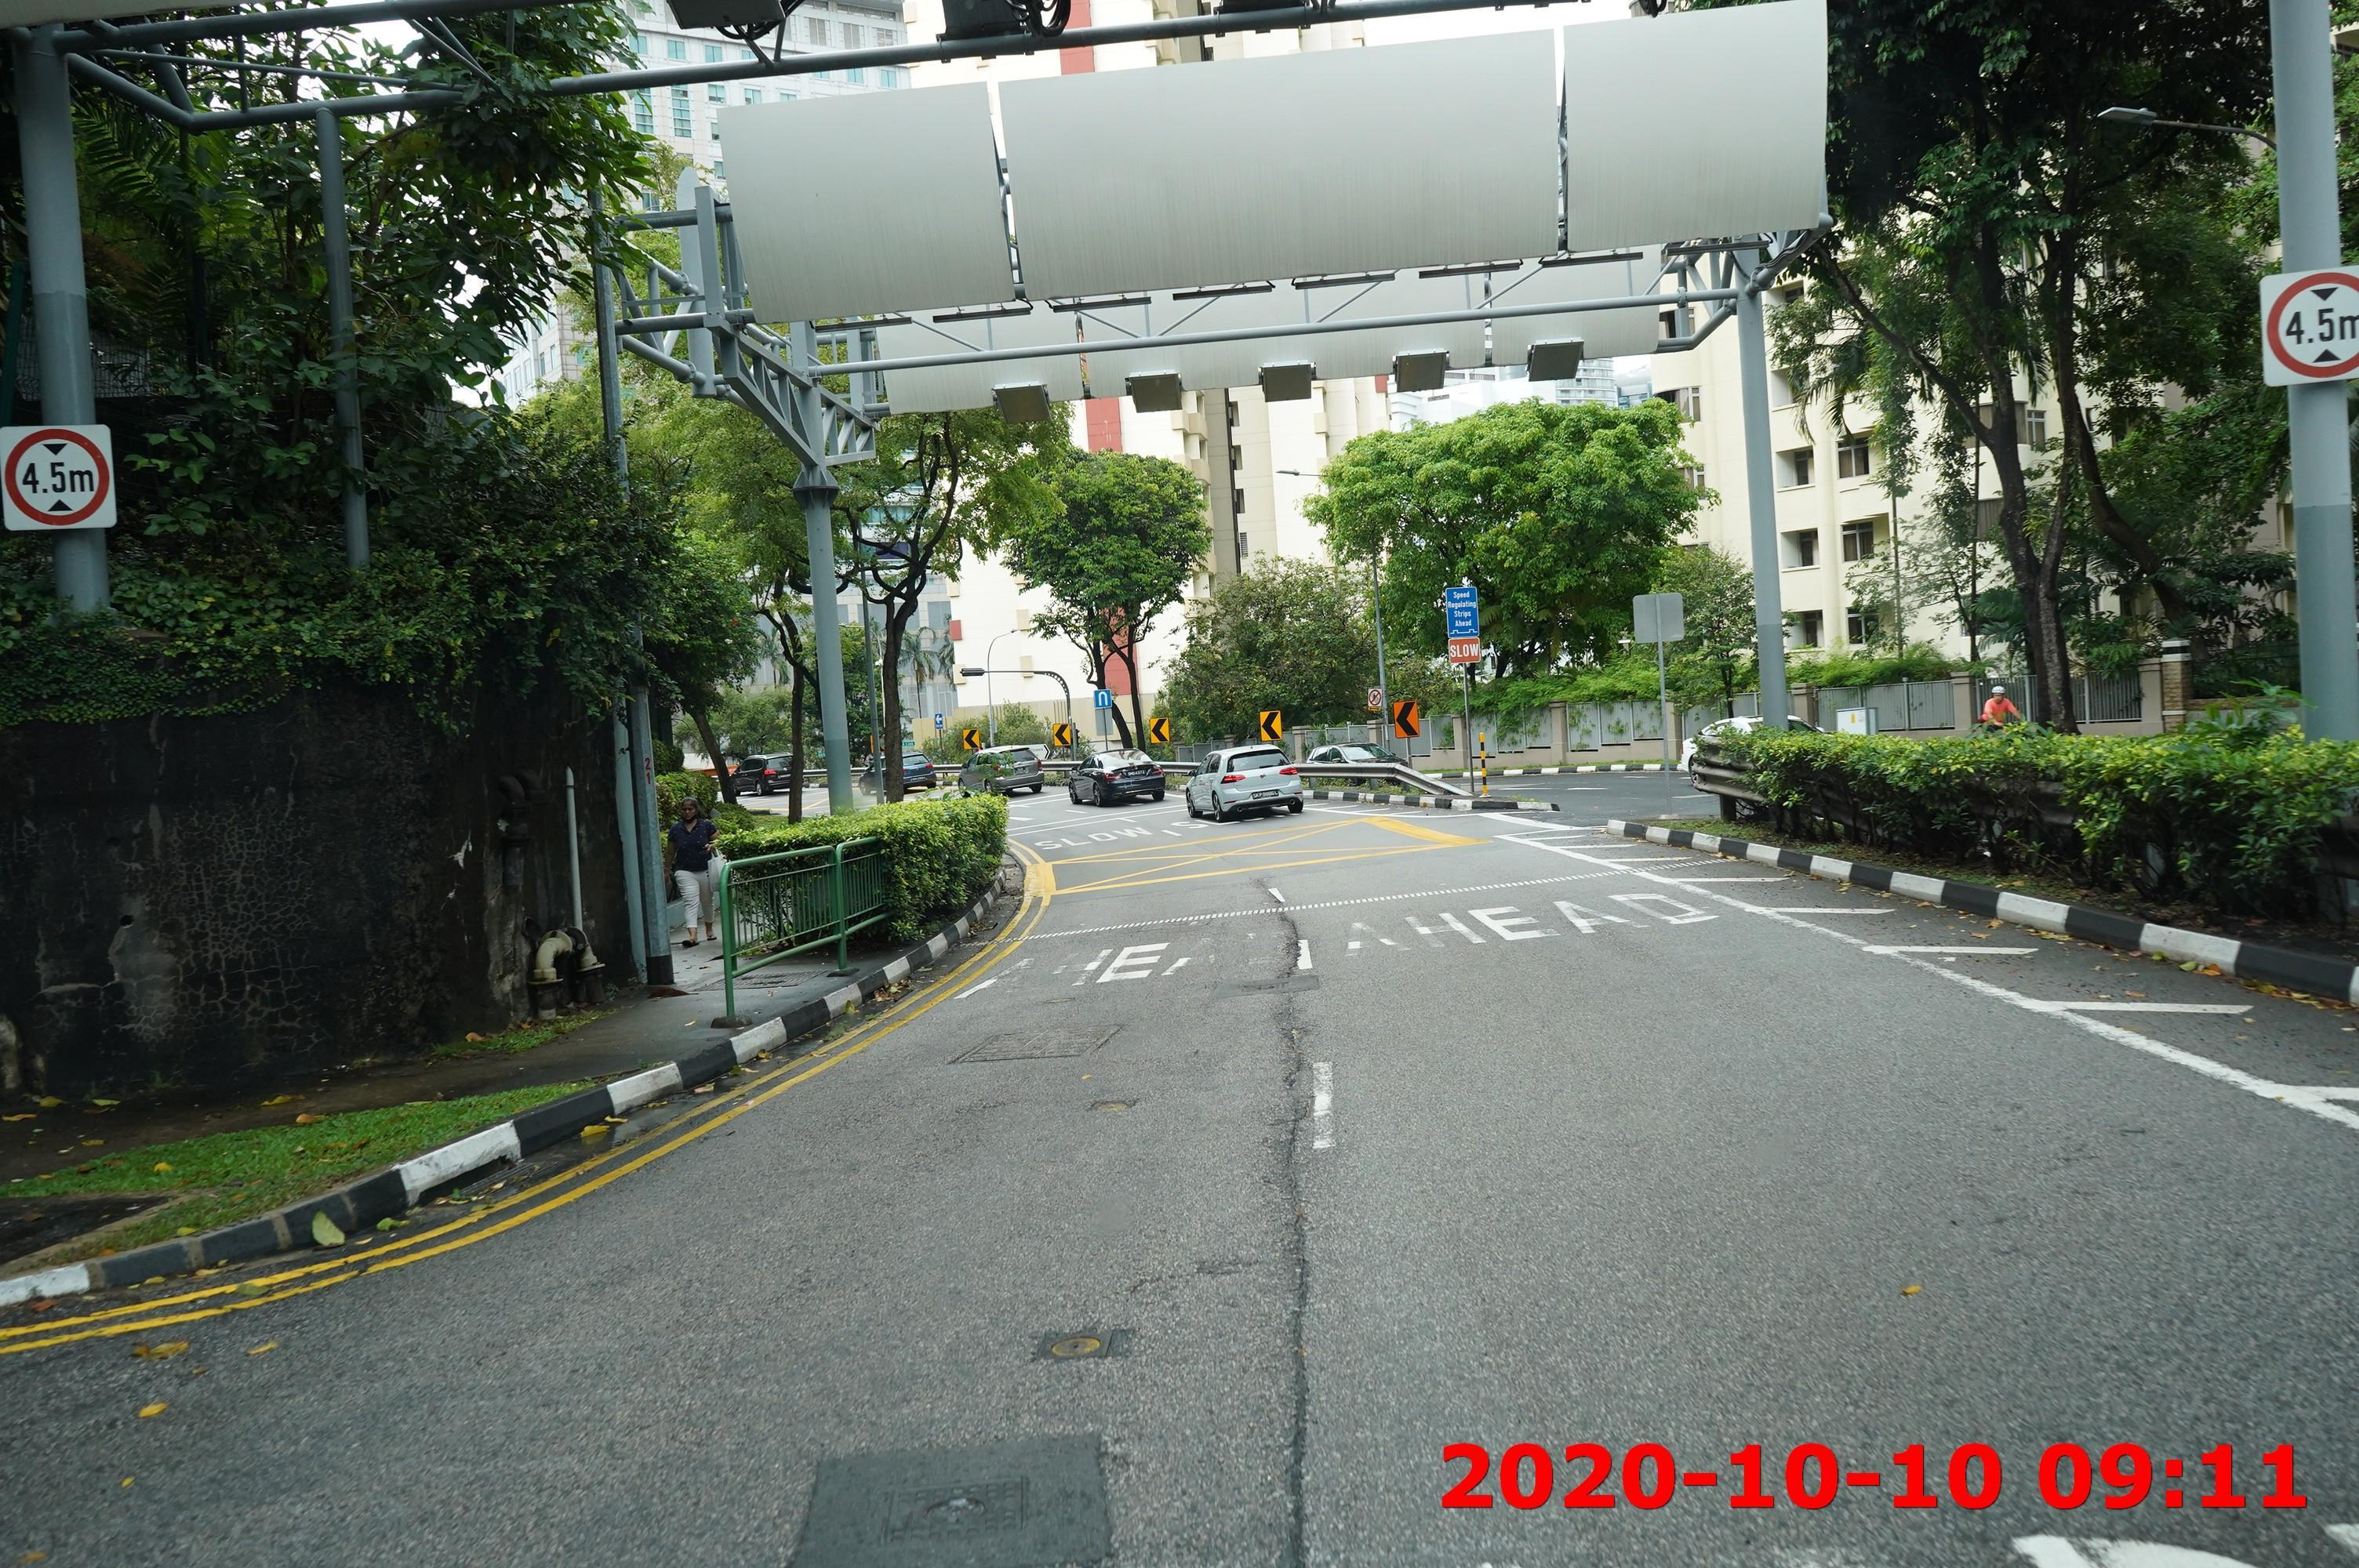single crack: (1272, 915, 1333, 1568)
